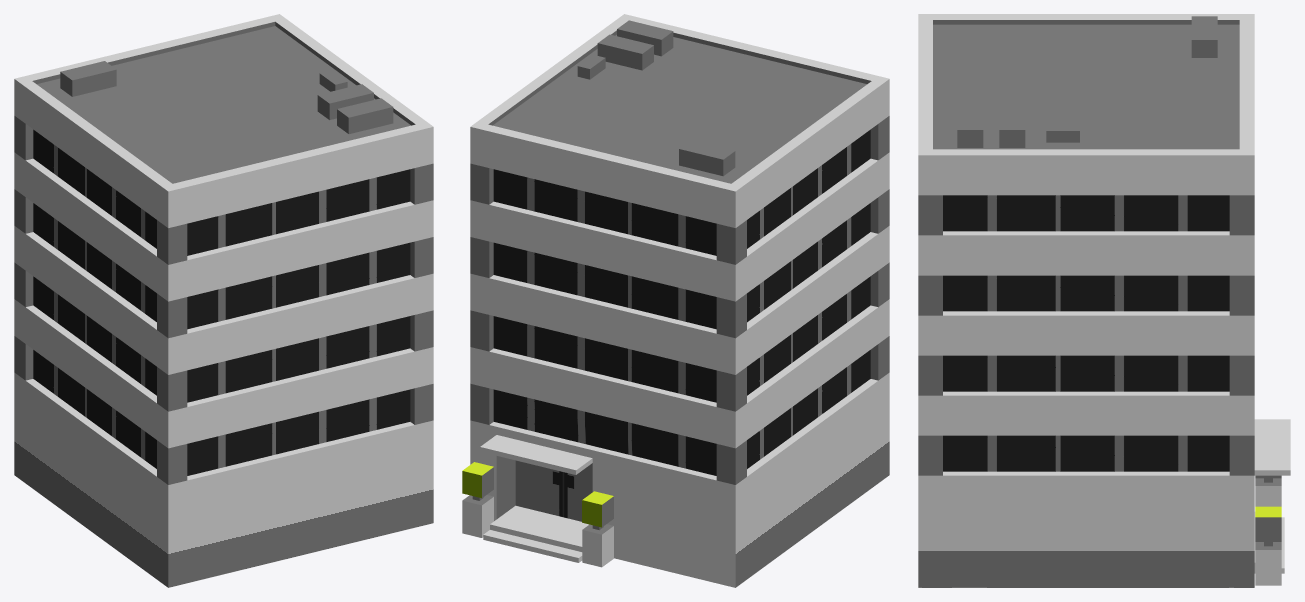
Rendered from Building_OfficeMedium_Brown.gltf.
3 views of the same model, side by side, from view 1: azimuth 30°, elevation 25°; view 2: azimuth 150°, elevation 25°; view 3: azimuth 270°, elevation 25° (orthographic). The views are drawn at different scales.
Parts seen in each view (by area): view 1: Building_OfficeMedium_Brown; view 2: Building_OfficeMedium_Brown; view 3: Building_OfficeMedium_Brown.
Part boxes in pixels (x1,y1,x2,y2): Building_OfficeMedium_Brown: (14,14,433,587); Building_OfficeMedium_Brown: (462,14,889,587); Building_OfficeMedium_Brown: (918,14,1290,587).
Size of the model in its own units: 13.62 by 20.04 by 15.17.
Materials: 1 (1 with a texture image).
